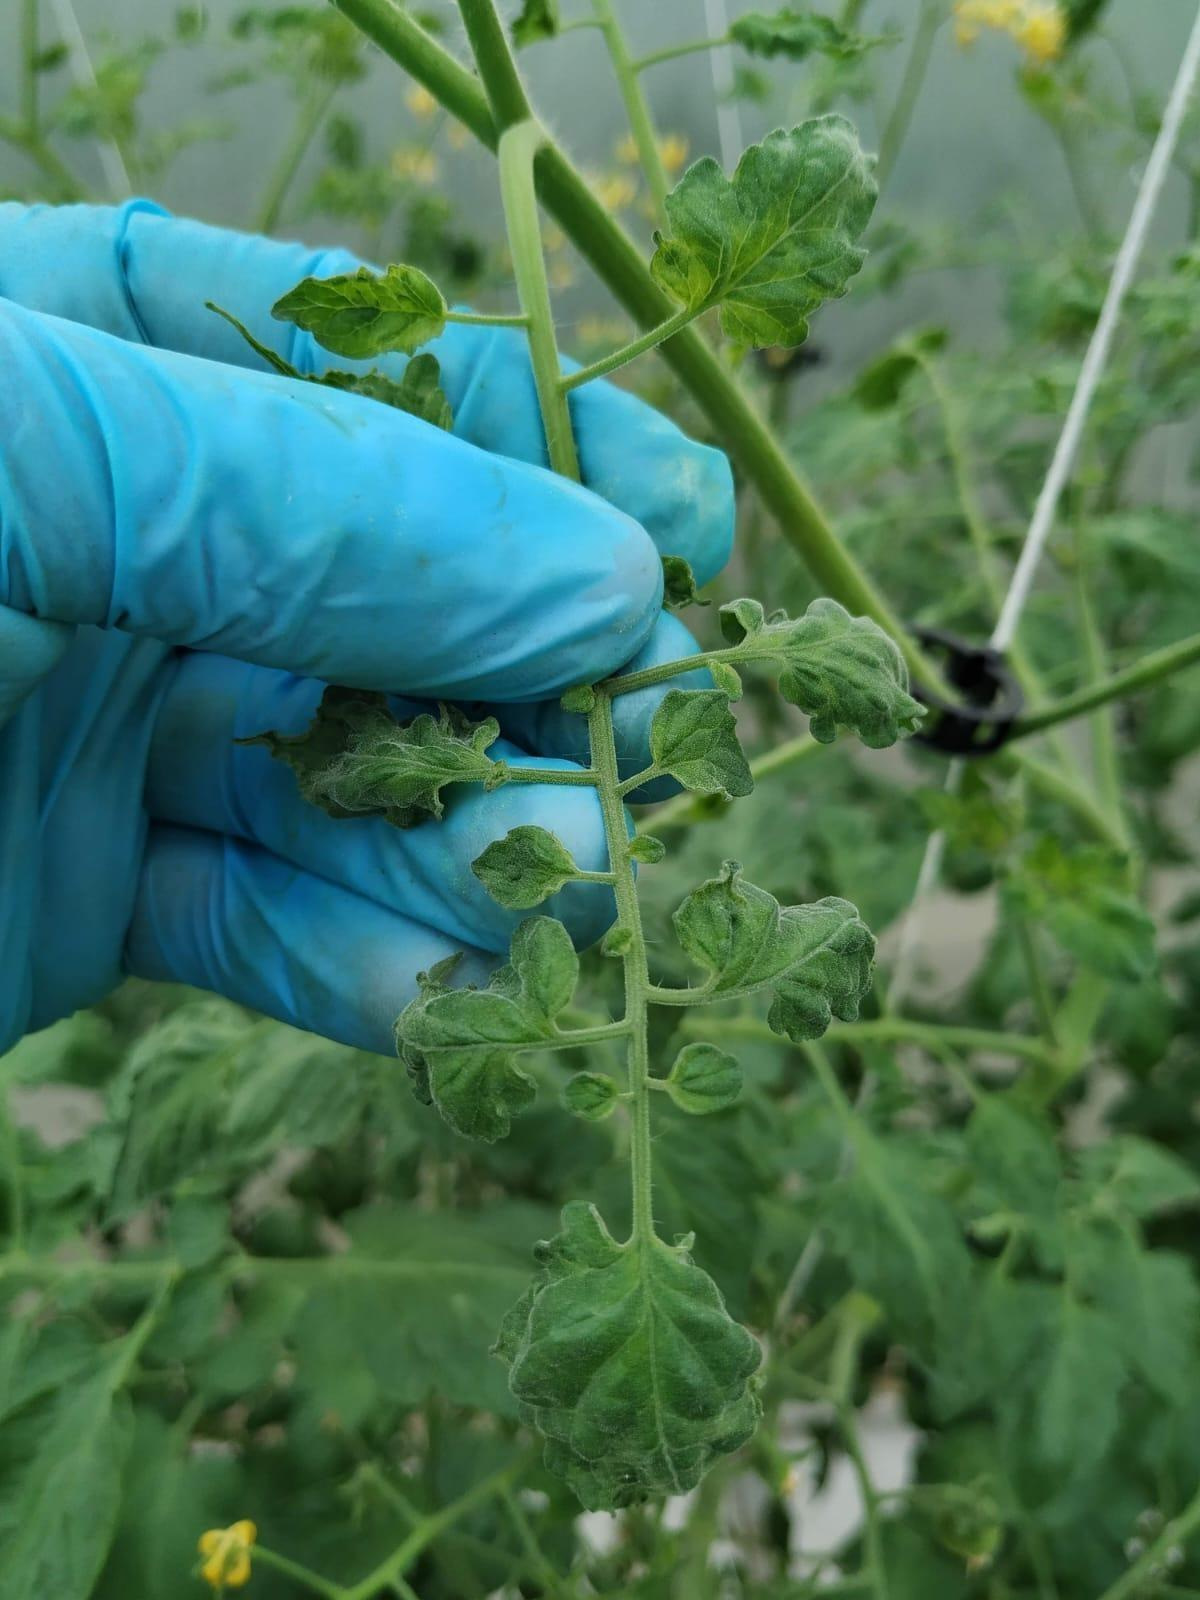Hoja: (563, 111, 879, 383), (495, 1203, 760, 1512), (395, 917, 577, 1143), (673, 860, 875, 1042), (271, 265, 447, 360), (643, 689, 754, 803), (470, 826, 585, 912)
Pedunculo: (590, 699, 655, 1291), (500, 152, 555, 440)
